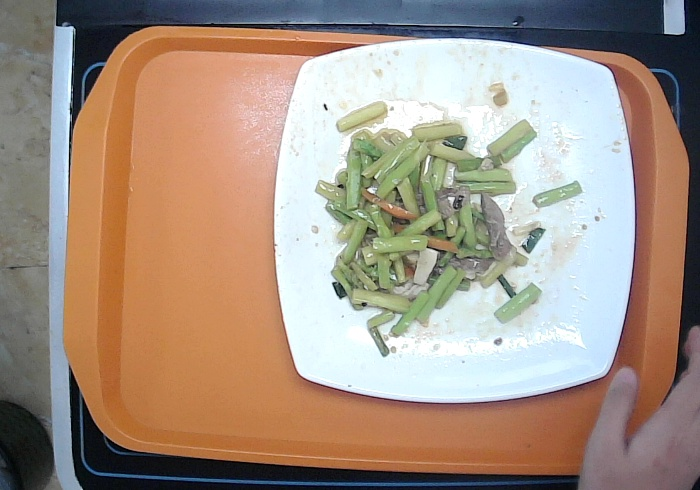ZNLD-Bai_Fang_Pan: (269, 39, 638, 403)
